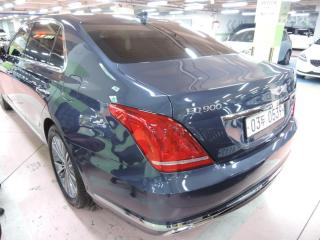0: (250, 118, 256, 132), (267, 110, 272, 123)
3: (255, 116, 261, 130), (275, 106, 279, 119)
5: (271, 108, 276, 121)
9: (278, 105, 283, 117)
plate: (242, 100, 288, 141)
두: (260, 114, 266, 128)
